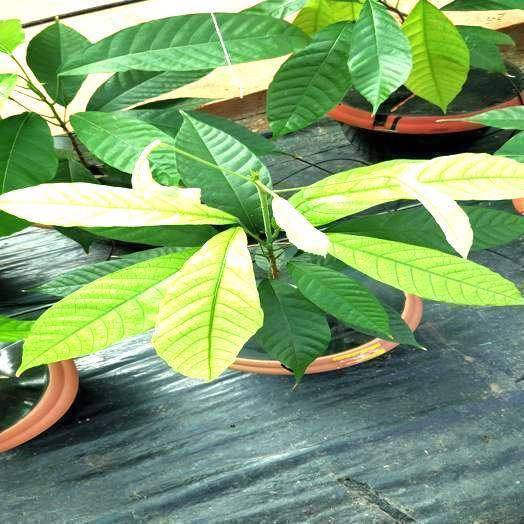Healthy Leaf: (58, 11, 313, 74), (175, 114, 271, 230), (267, 22, 352, 135), (69, 111, 183, 187), (255, 279, 330, 381), (288, 263, 391, 337), (402, 0, 469, 112), (350, 0, 411, 114), (25, 17, 95, 106), (327, 206, 455, 253), (84, 68, 214, 111), (0, 112, 57, 194), (464, 206, 523, 251), (452, 106, 523, 130)
Iron: (18, 249, 196, 371), (152, 227, 263, 379), (290, 153, 523, 225), (330, 233, 523, 304), (1, 183, 236, 227), (400, 168, 473, 257), (273, 195, 327, 255), (131, 139, 181, 188)
